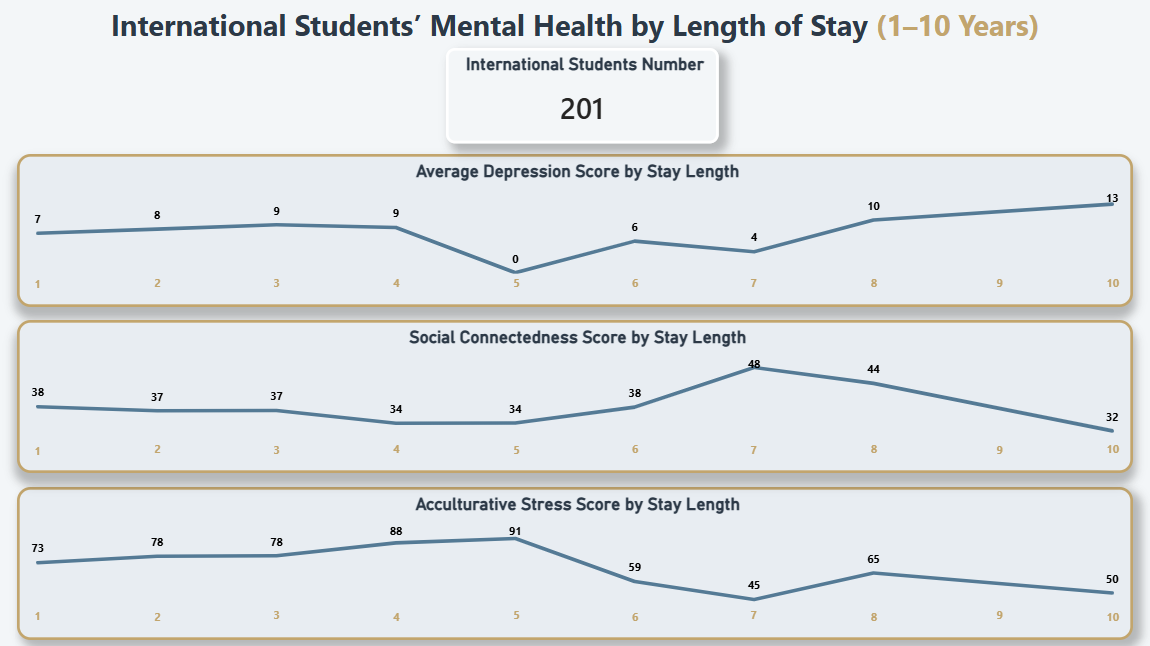

What the dashboard file says about the page in this screenshot:
{"tool":"powerbi","page":{"name":"Page 2","canvas":[1280,720],"ordinal":0},"visuals":[{"type":"textbox","box":[20,0,1240,60],"z":0},{"type":"lineChart","fields":{"Category":["Insight Result.stay"],"Y":["Sum(Insight Result.average_phq)"]},"box":[20,170.9,1240,170],"z":0,"group":"g2"},{"type":"lineChart","fields":{"Category":["Insight Result.stay"],"Y":["Sum(Insight Result.average_scs)"]},"box":[20,355.7,1240,170],"z":1000,"group":"g4"},{"type":"group","id":"g1","title":"Group 5","box":[20,540.6,1240,170.5],"z":1000},{"type":"lineChart","fields":{"Category":["Insight Result.stay"],"Y":["Sum(Insight Result.average_as)"]},"box":[20,540.6,1240,170.5],"z":1000,"group":"g3"},{"type":"group","id":"g2","title":"Group 2","box":[20,170.9,1240,170],"z":2000},{"type":"group","id":"g3","title":"Group 4","box":[20,540.6,1240,170.5],"z":2000,"group":"g1"},{"type":"textbox","box":[34.1,300.2,53.5,30.2],"z":3000,"group":"g5"},{"type":"group","id":"g4","title":"Group 3","box":[20,355.7,1240,170],"z":3000},{"type":"textbox","box":[34.3,486.4,53.5,30.2],"z":3000,"group":"g6"},{"type":"textbox","box":[34,669.5,53.5,30.2],"z":3000,"group":"g7"},{"type":"cardVisual","title":"International Students Number","fields":{"Data":["Sum(Insight Result.count_int)"]},"box":[496.4,53.6,302.7,106.4],"z":4000},{"type":"group","id":"g5","title":"Group 1","box":[34.1,299.3,1122.7,30.9],"z":4000,"group":"g2"},{"type":"group","id":"g6","title":"Group 1","box":[34.3,485.5,1122.4,30.5],"z":4000,"group":"g4"},{"type":"group","id":"g7","title":"Group 1","box":[34,668.6,1122.9,30.7],"z":5000,"group":"g1"},{"type":"textbox","box":[299.6,299.3,53.5,30.2],"z":6000,"group":"g5"},{"type":"textbox","box":[299.8,485.5,53.5,30.2],"z":6000,"group":"g6"},{"type":"textbox","box":[299.5,668.6,53.5,30.2],"z":6000,"group":"g7"},{"type":"textbox","box":[565.9,299.3,53.5,30.2],"z":9000,"group":"g5"},{"type":"textbox","box":[566.1,485.5,53.5,30.2],"z":9000,"group":"g6"},{"type":"textbox","box":[565.8,668.6,53.5,30.2],"z":9000,"group":"g7"},{"type":"textbox","box":[829.6,299.3,53.5,30.2],"z":12000,"group":"g5"},{"type":"textbox","box":[829.8,485.5,53.5,30.2],"z":12000,"group":"g6"},{"type":"textbox","box":[829.5,668.6,53.5,30.2],"z":12000,"group":"g7"},{"type":"textbox","box":[1103.2,299.3,53.5,30.2],"z":15000,"group":"g5"},{"type":"textbox","box":[1103.4,485.5,53.5,30.2],"z":15000,"group":"g6"},{"type":"textbox","box":[1103.1,668.6,53.5,30.2],"z":15000,"group":"g7"}]}

Visuals, with their boxes in screenshot pixels (x1, y1, x2, y2), scaled from the page's 1280x720 canvas onto the 1150x646 screenshot:
textbox: [18,0,1132,54]
lineChart - Insight Result.stay x Sum(Insight Result.average_phq): [18,153,1132,306]
lineChart - Insight Result.stay x Sum(Insight Result.average_scs): [18,319,1132,472]
"Group 5" group: [18,485,1132,638]
lineChart - Insight Result.stay x Sum(Insight Result.average_as): [18,485,1132,638]
"Group 2" group: [18,153,1132,306]
"Group 4" group: [18,485,1132,638]
textbox: [31,269,79,296]
"Group 3" group: [18,319,1132,472]
textbox: [31,436,79,464]
textbox: [31,601,79,628]
"International Students Number" cardVisual: [446,48,718,144]
"Group 1" group: [31,269,1039,296]
"Group 1" group: [31,436,1039,463]
"Group 1" group: [31,600,1039,627]
textbox: [269,269,317,296]
textbox: [269,436,317,463]
textbox: [269,600,317,627]
textbox: [508,269,556,296]
textbox: [509,436,557,463]
textbox: [508,600,556,627]
textbox: [745,269,793,296]
textbox: [746,436,794,463]
textbox: [745,600,793,627]
textbox: [991,269,1039,296]
textbox: [991,436,1039,463]
textbox: [991,600,1039,627]
